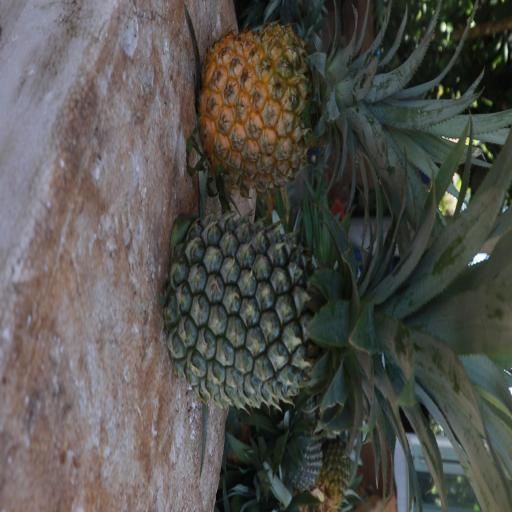Pineapple - v8 v1: (200, 32, 470, 202)
